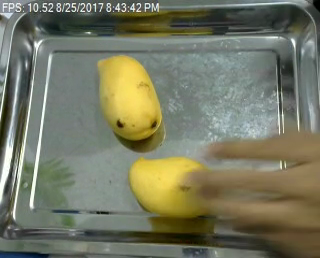Mango: (95, 53, 164, 141), (126, 155, 218, 217)
